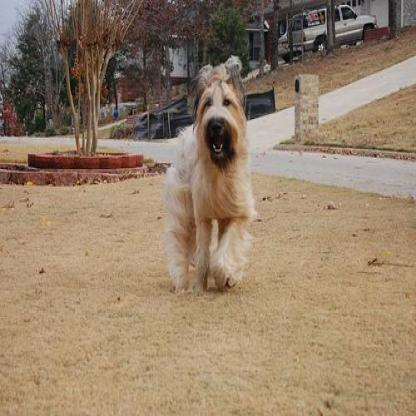briard: (157, 53, 256, 303)
